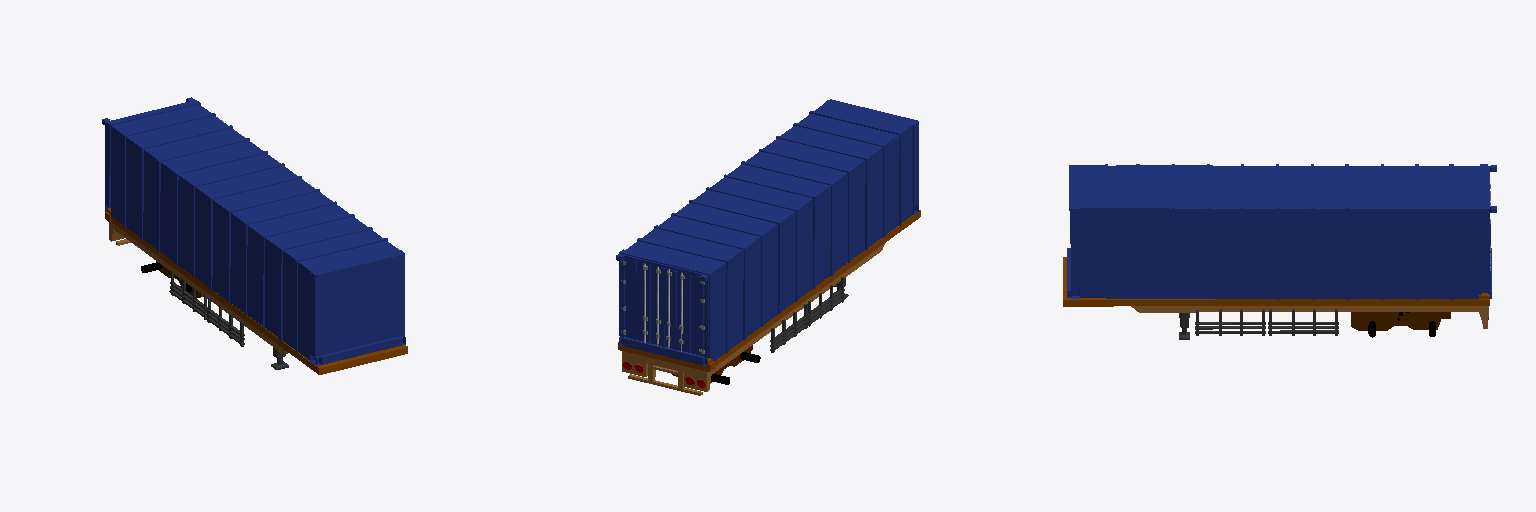
Rendered from rimorchioScaled1.obj.
The picture shows the model from 3 angles: view 1: azimuth 30°, elevation 25°; view 2: azimuth 150°, elevation 25°; view 3: azimuth 270°, elevation 25°; orthographic projection.
Parts seen in each view (by area): view 1: Box73, Box75, Box76, Box1158, Box1157; view 2: Box73, Box77, Box1177, Box76, Box75, Box1157, Box1152, Box1158; view 3: Box73, Box75, Box76, Box82, Box1156, Box1155.
Part boxes in pixels (x1,y1,x2,y2): Box73: (102,97,405,365); Box75: (105,208,407,374); Box76: (109,222,287,354); Box1158: (206,297,244,346); Box1157: (169,270,207,319); Box73: (616,99,918,366); Box77: (662,268,703,356); Box1177: (622,258,661,345); Box76: (622,243,884,391); Box75: (618,210,920,371); Box1157: (770,304,808,352); Box1152: (628,364,702,395); Box1158: (808,277,844,326); Box73: (1067,164,1496,299); Box75: (1063,257,1489,306); Box76: (1131,306,1487,325); Box82: (1351,312,1450,330); Box1156: (1268,309,1338,335); Box1155: (1195,309,1265,335).
Size of the model in its own units: 24.99 by 36.12 by 101.